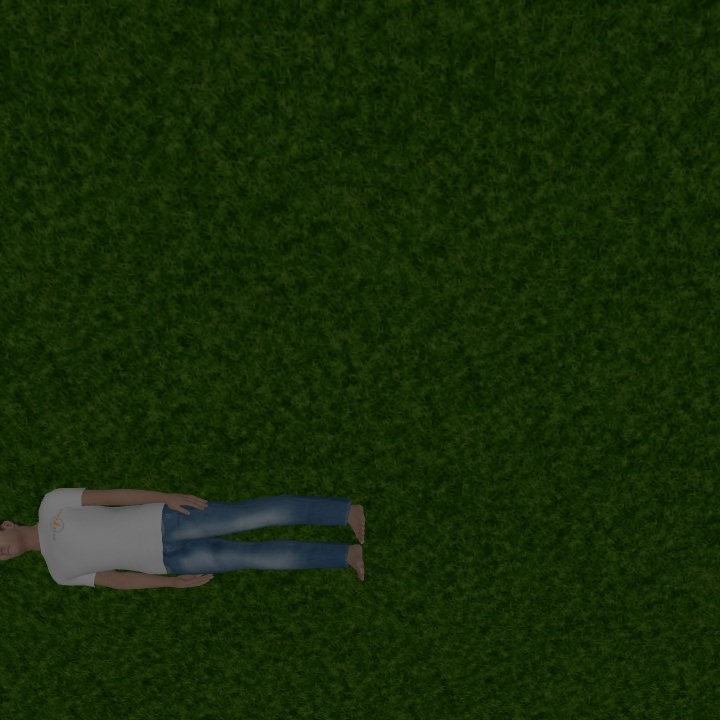victim: (1, 486, 368, 591)
